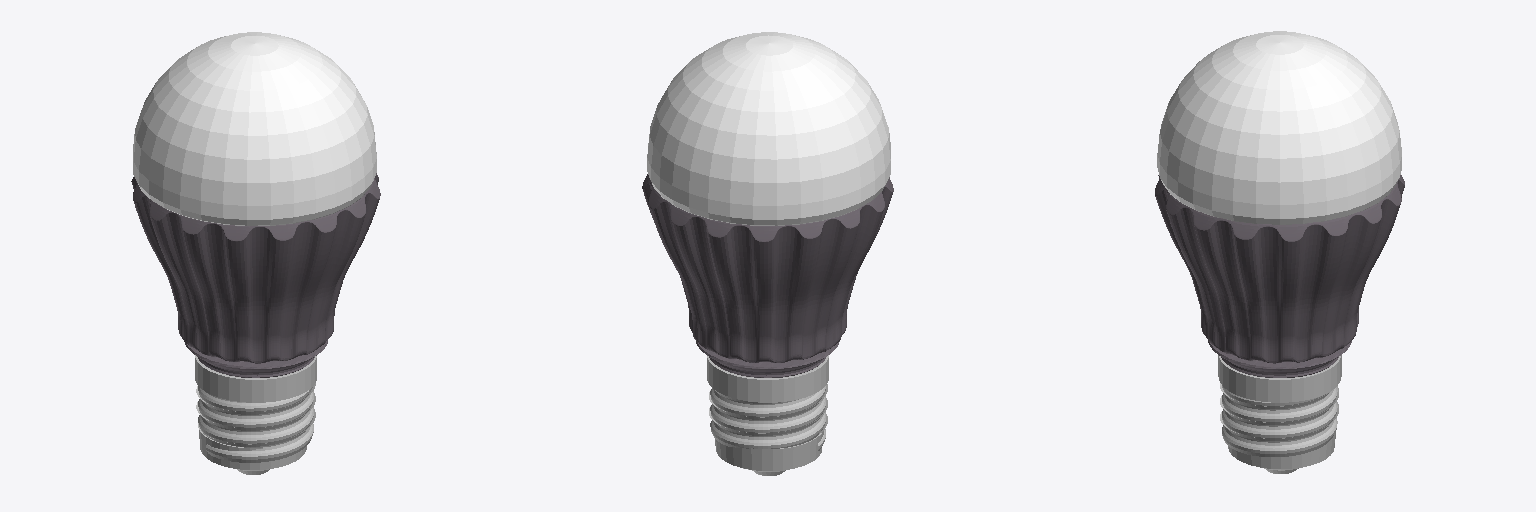
File: bulb.obj
3 views of the same model, side by side, from view 1: azimuth 30°, elevation 25°; view 2: azimuth 150°, elevation 25°; view 3: azimuth 270°, elevation 25° (orthographic).
Visible parts, largest first — view 1: Sphere, Cylinder, Plane, Cylinder.002, Cylinder.001, Cylinder.003; view 2: Sphere, Cylinder, Plane, Cylinder.002, Cylinder.003, Cylinder.001; view 3: Sphere, Cylinder, Plane, Cylinder.002, Cylinder.001, Cylinder.003.
Boxes of the visible parts, box(x1,y1,x2,y2) form: Sphere: box(133, 32, 376, 225); Cylinder: box(131, 173, 380, 363); Plane: box(196, 383, 315, 462); Cylinder.002: box(195, 355, 316, 402); Cylinder.001: box(184, 340, 327, 377); Cylinder.003: box(198, 423, 306, 470); Sphere: box(647, 32, 890, 225); Cylinder: box(642, 174, 893, 362); Plane: box(709, 384, 827, 450); Cylinder.002: box(707, 355, 828, 402); Cylinder.003: box(715, 431, 823, 471); Cylinder.001: box(696, 341, 839, 377); Sphere: box(1157, 31, 1401, 224); Cylinder: box(1155, 175, 1404, 363); Plane: box(1220, 383, 1338, 456); Cylinder.002: box(1218, 355, 1341, 402); Cylinder.001: box(1208, 340, 1351, 377); Cylinder.003: box(1228, 432, 1335, 470).
Bounding box in the file's own units: 8.29 × 15.53 × 8.29.